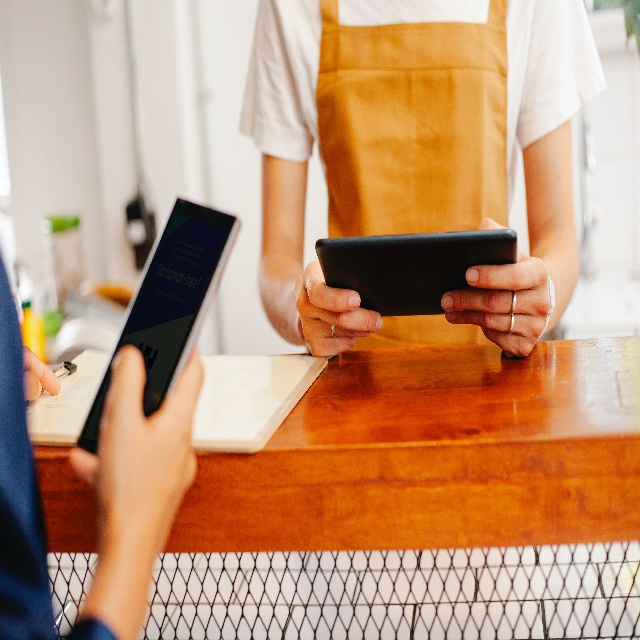Sin_guantes: (68, 344, 204, 580), (440, 217, 551, 359), (296, 259, 384, 358), (22, 344, 61, 401)
